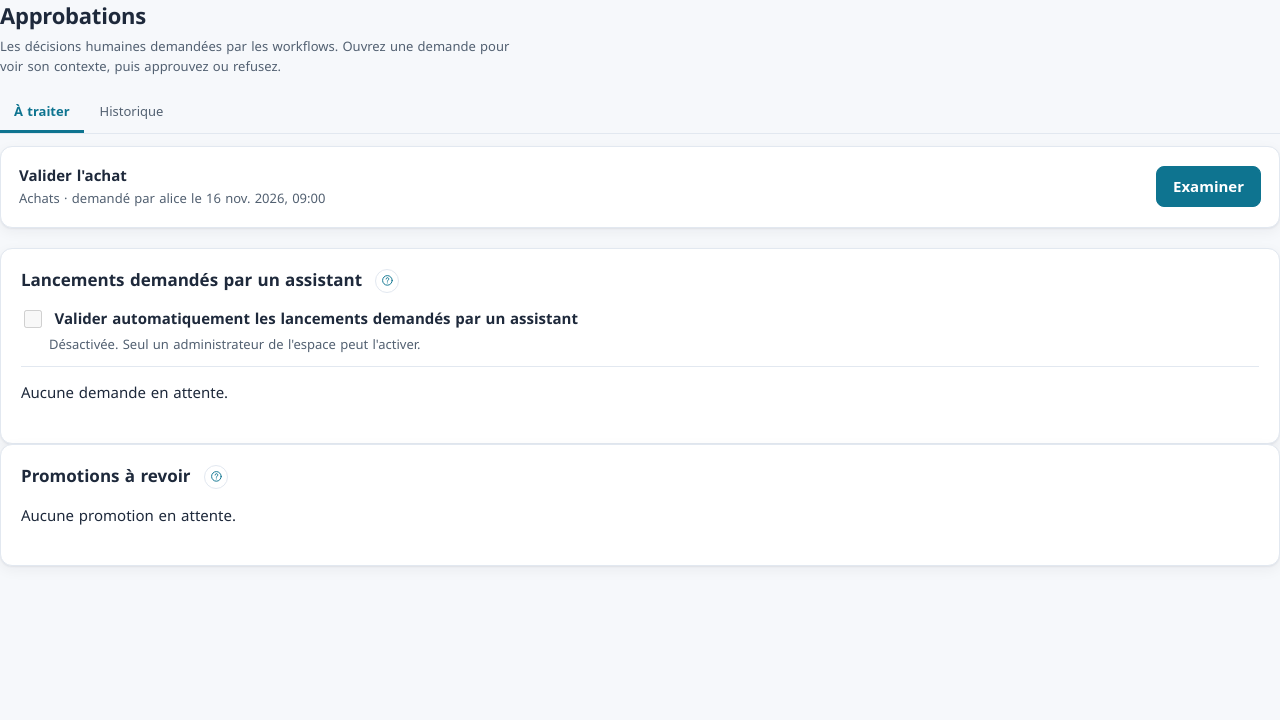
Approbations : fenêtre d'une demande › montre le contexte dans le second onglet
The image size is (1280, 720).
Click the button with aria-label "Examiner : Valider l'achat" at (1208, 187), box 1156,166 -> 1261,207
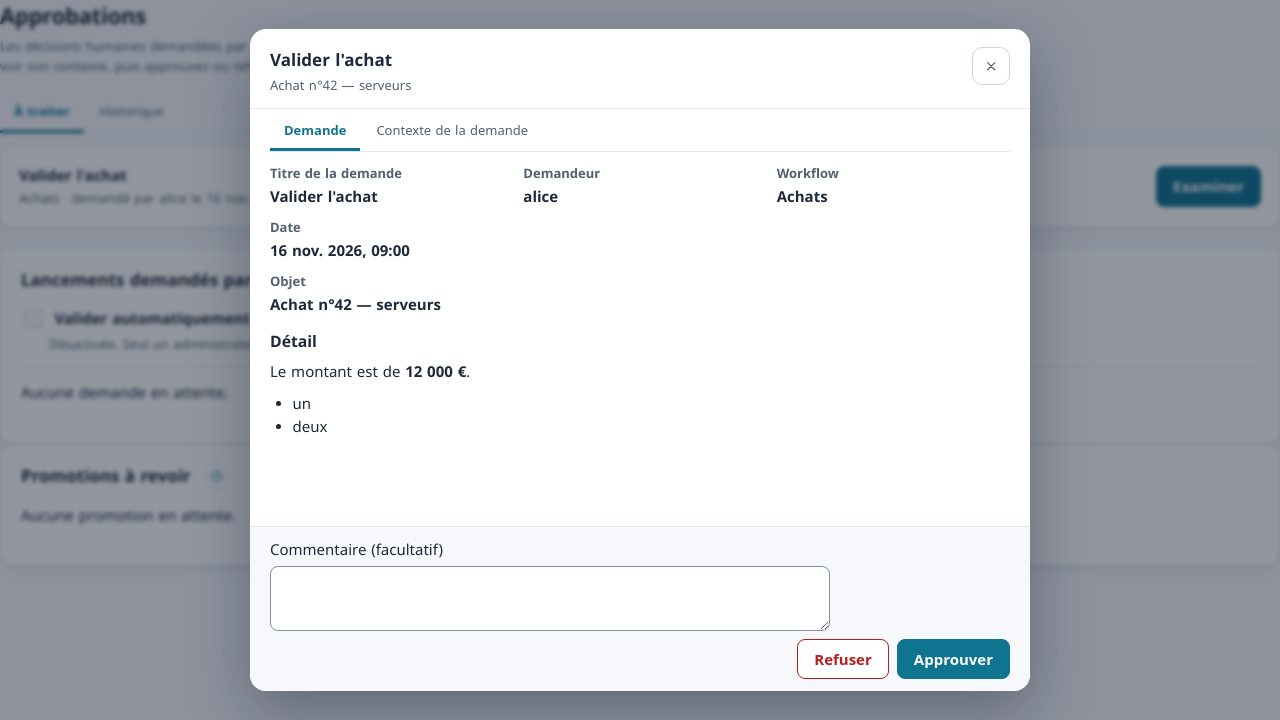
Click the tab "Contexte de la demande" at (452, 132), box 362,113 -> 542,151
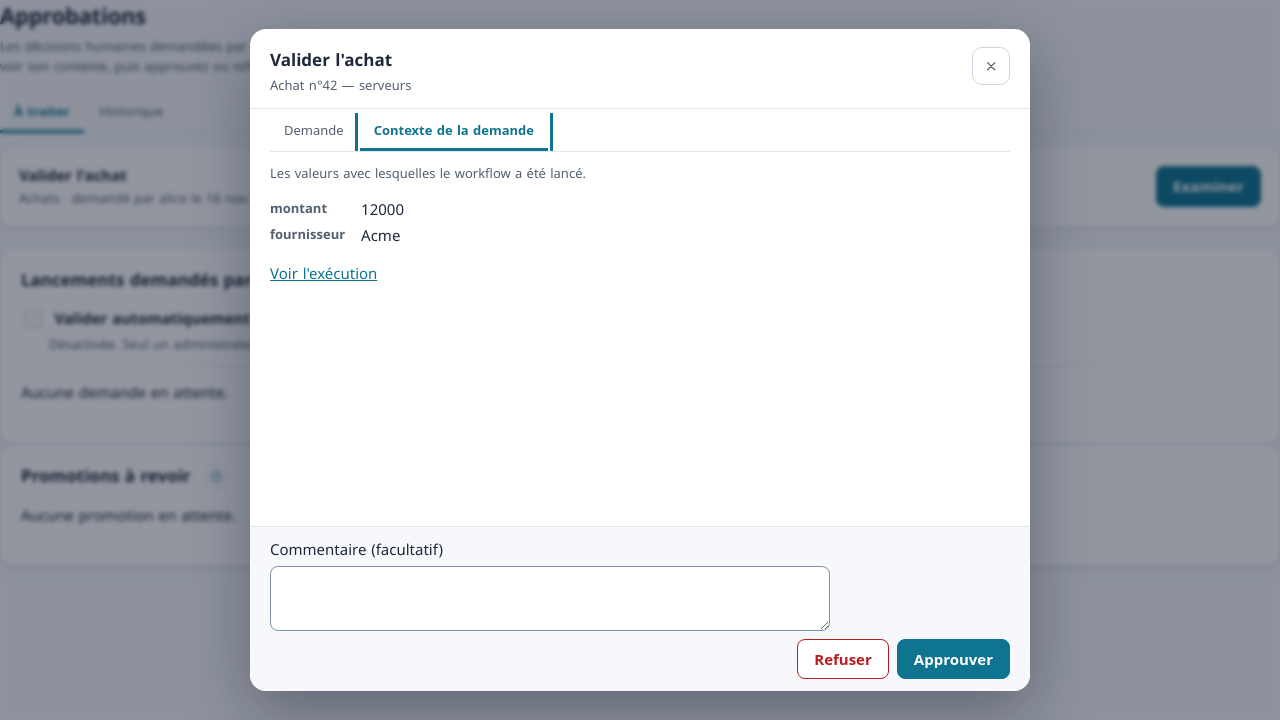
Expected: the text "Acme" is shown, 361,226 -> 400,246
Expected: the heading "Détail" is gone
Expected: the link "Voir l'exécution" is shown, 270,264 -> 377,284
